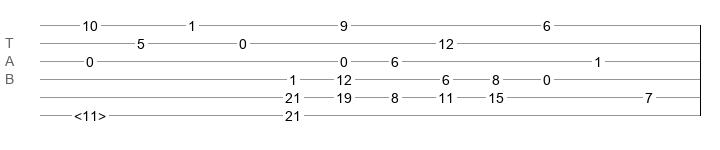0: (86, 54, 94, 64), (239, 36, 247, 46), (340, 54, 348, 64), (543, 72, 551, 82)
1: (188, 18, 196, 28), (289, 72, 297, 82), (594, 54, 602, 64)
10: (82, 18, 98, 28)
11: (438, 90, 454, 100)
12: (336, 72, 352, 82), (438, 36, 454, 46)
15: (488, 90, 504, 100)
19: (336, 90, 352, 100)
21: (285, 90, 301, 100), (285, 108, 301, 118)
5: (137, 36, 145, 46)
6: (391, 54, 399, 64), (442, 72, 450, 82), (543, 18, 551, 28)
7: (645, 90, 653, 100)
8: (391, 90, 399, 100), (492, 72, 500, 82)
9: (340, 18, 348, 28)
harmonic: (74, 108, 106, 118)
